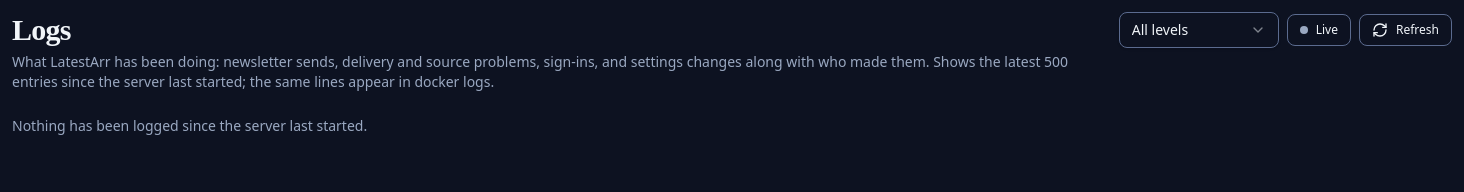
Test: LogsPage › re-fetches on Refresh
Expected: the text "Nothing has been logged since the server last started." is shown, [12,116,367,135]
Click the button "Refresh" at (1406, 30), box [1359,14,1452,46]
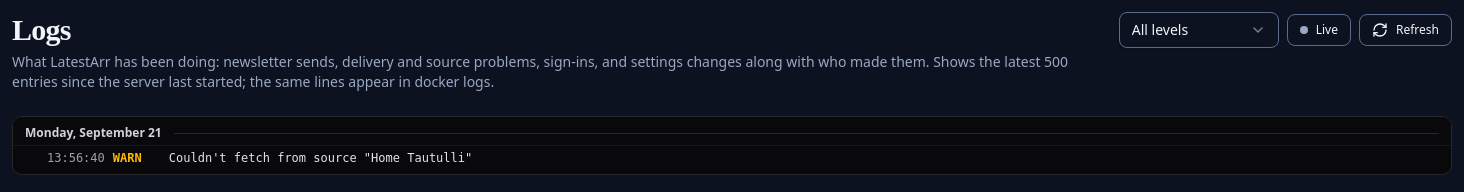
Expected: the text "Couldn't fetch from source \"Home Tautulli\"" is shown, [169,151,472,165]
